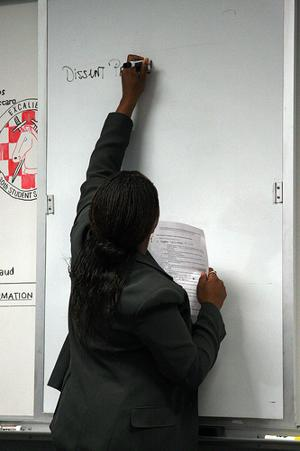person: (47, 54, 226, 448)
